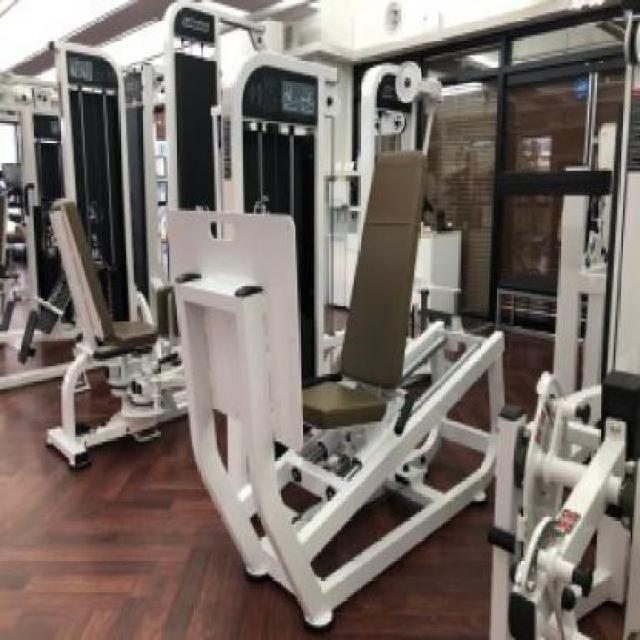leg press: (145, 43, 529, 637)
